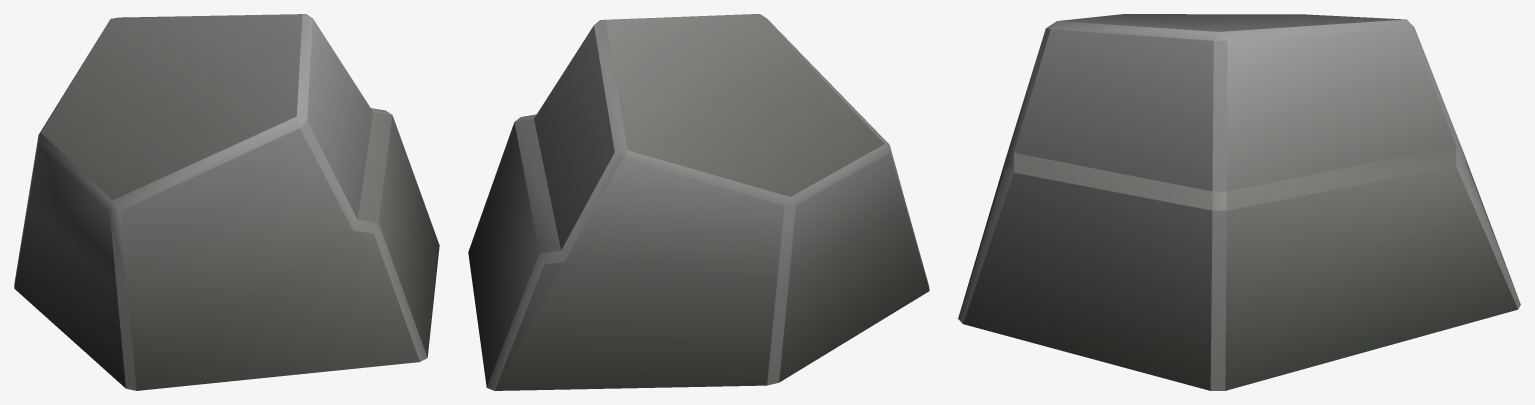
Rendered from Rock-1-4.fbx.
3 views of the same model, side by side, from view 1: azimuth 30°, elevation 25°; view 2: azimuth 150°, elevation 25°; view 3: azimuth 270°, elevation 25° (orthographic). The views are drawn at different scales.
Parts seen in each view (by area): view 1: Rock-1-4; view 2: Rock-1-4; view 3: Rock-1-4.
Boxes of the visible parts, x1,y1,x2,y2 form: Rock-1-4: (14,14,439,390); Rock-1-4: (468,14,929,390); Rock-1-4: (958,14,1520,390).
Bounding box in the file's own units: 177 × 115 × 205.
